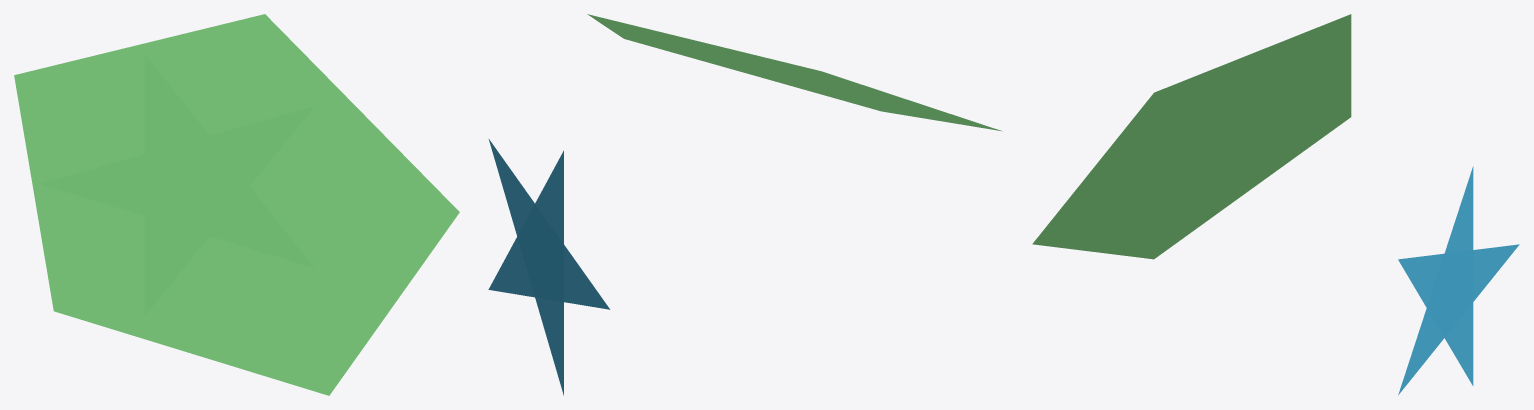
File: DodecadodecahedronF.obj
3 renders of one model, left to right at view 1: azimuth 30°, elevation 25°; view 2: azimuth 150°, elevation 25°; view 3: azimuth 270°, elevation 25°, orthographic. The views are drawn at different scales.
Size of the model in its own units: 1.62 by 1.31 by 2.
